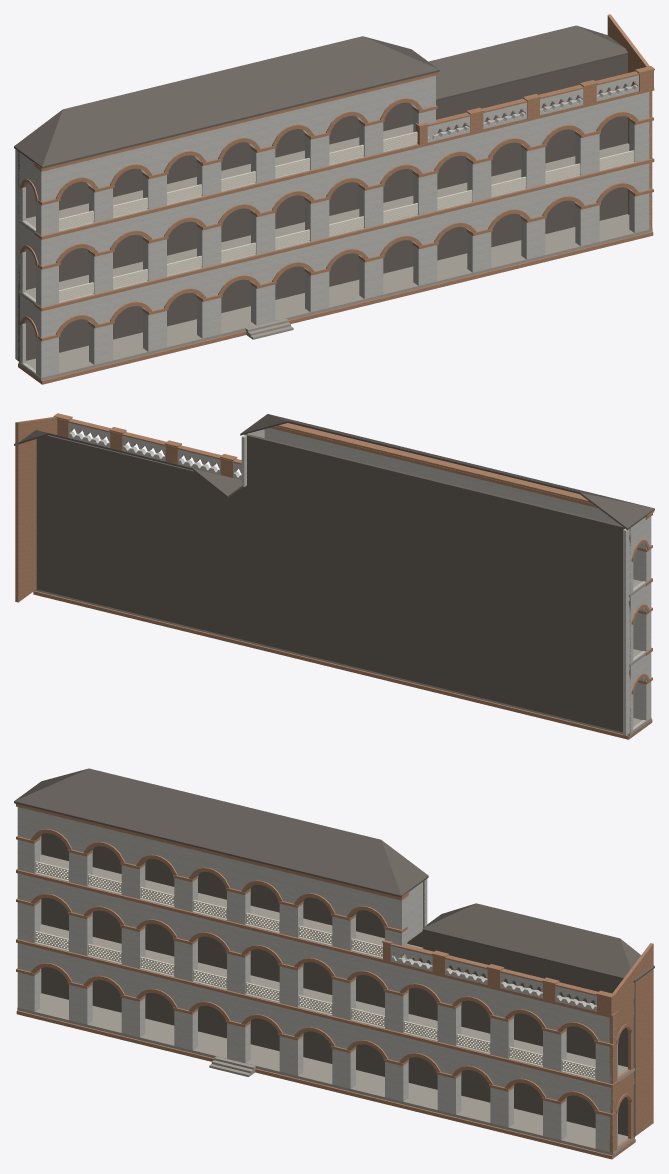
Rendered from lod-source.glb.
3 renders of one model, top to bottom at view 1: azimuth 30°, elevation 25°; view 2: azimuth 150°, elevation 25°; view 3: azimuth 330°, elevation 25°, orthographic. The views are drawn at different scales.
Visible parts, largest first — view 1: 圣约翰大学思颜堂四十号楼草坪前廊; view 2: 圣约翰大学思颜堂四十号楼草坪前廊; view 3: 圣约翰大学思颜堂四十号楼草坪前廊.
Part boxes in pixels (bbox=[...]): 圣约翰大学思颜堂四十号楼草坪前廊: bbox=[14, 14, 654, 384]; 圣约翰大学思颜堂四十号楼草坪前廊: bbox=[14, 413, 654, 739]; 圣约翰大学思颜堂四十号楼草坪前廊: bbox=[14, 768, 654, 1159].
Bounding box in the file's own units: 43.01 × 16.35 × 5.98.
Materials: 6 (2 with a texture image).
